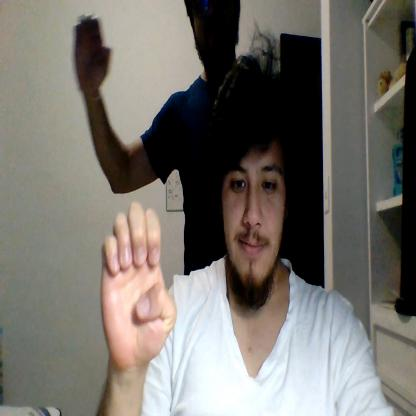E: (101, 202, 177, 368)
